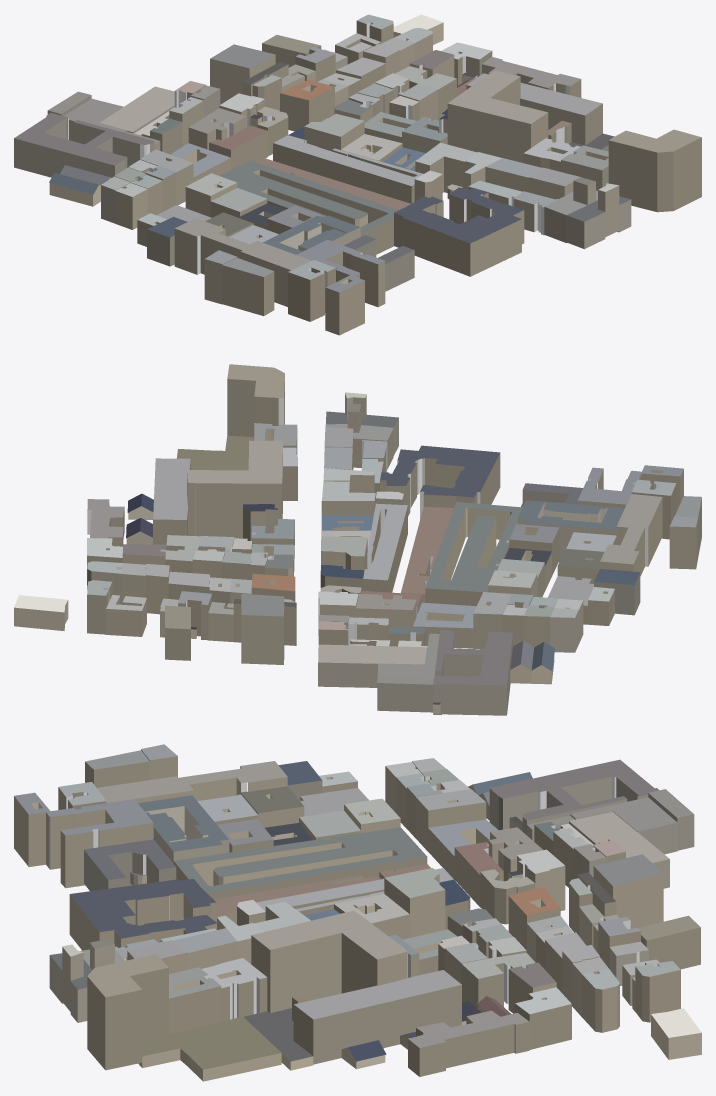
The picture shows the model from 3 angles, top to bottom: view 1: azimuth 30°, elevation 25°; view 2: azimuth 150°, elevation 25°; view 3: azimuth 270°, elevation 25°; orthographic projection. The views are drawn at different scales.
Parts seen in each view (by area): view 1: tuile; view 2: tuile; view 3: tuile.
Part boxes in pixels (<box>): tuile: <box>14,14,701,335</box>; tuile: <box>14,364,701,715</box>; tuile: <box>14,744,701,1081</box>.
Bounding box in the file's own units: 276 × 39.33 × 274.
